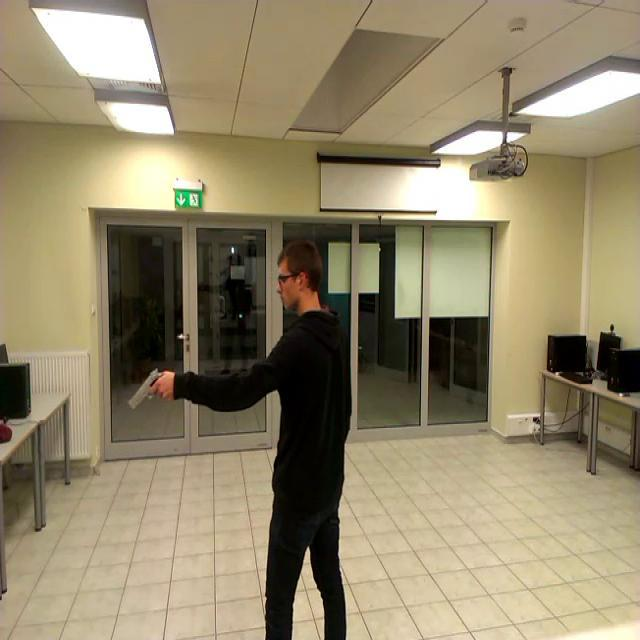Gun: (130, 367, 168, 408)
